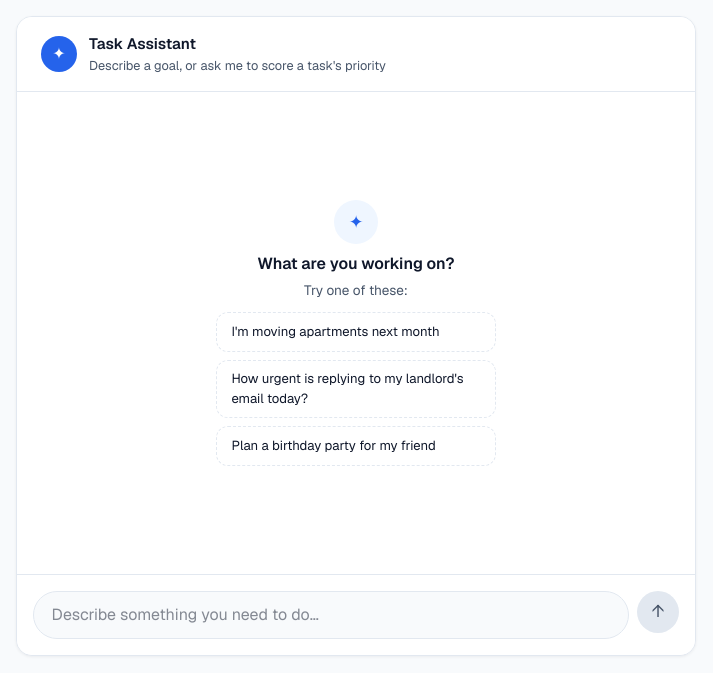
it: Chat › clicking an empty-state example fills the input
This screenshot has width=713, height=673.
What coordinates should you click on to do the following:
click the button "I'm moving apartments next month"
I would click on:
 (356, 332)
Its box is [216,312,496,352].
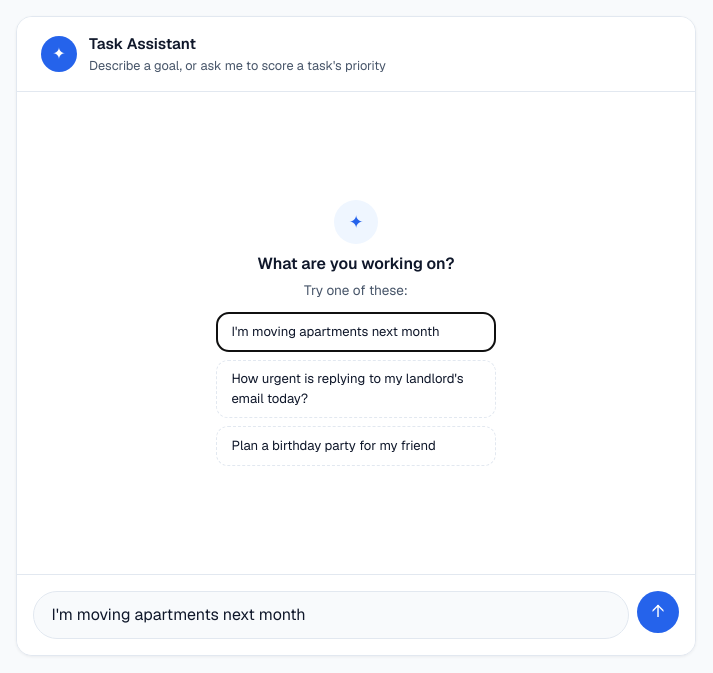
Expected: the field with placeholder "Describe something you need to do…" holds "I'm moving apartments next month", [33,591,629,639]
